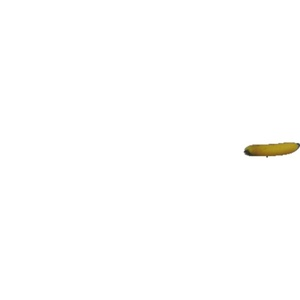banana: (240, 134, 298, 160)
